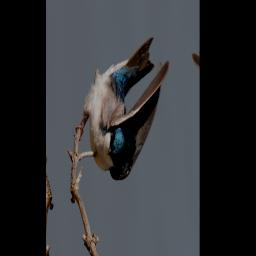Swallow: (66, 30, 180, 193)
